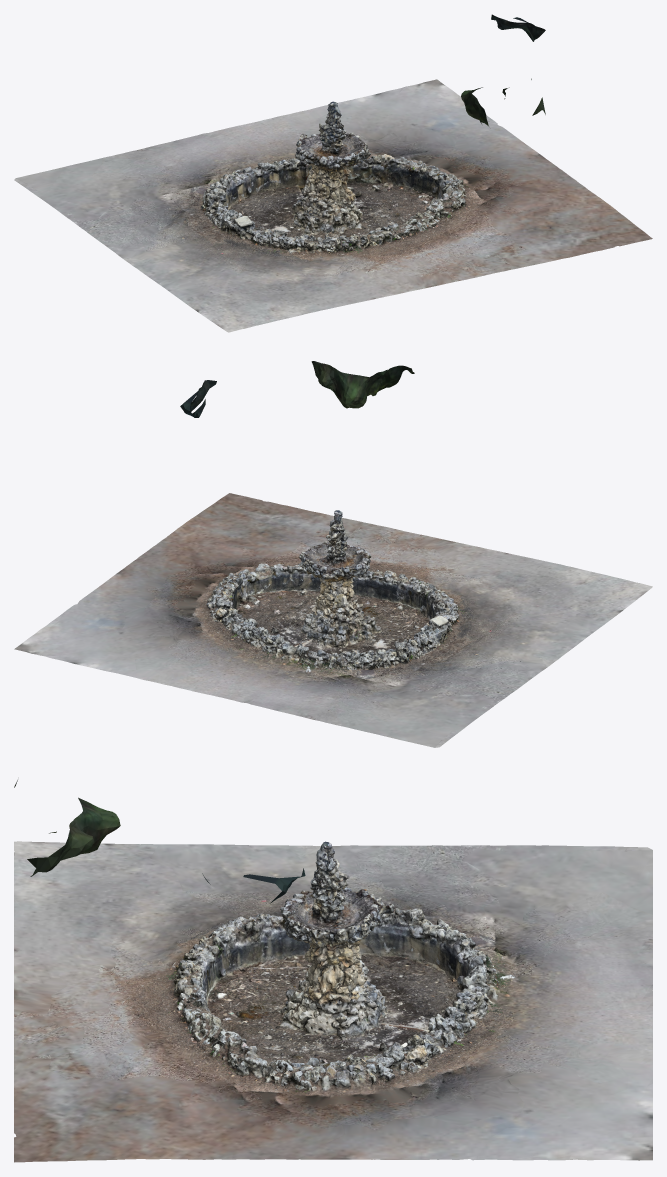
The picture shows the model from 3 angles, top to bottom: view 1: azimuth 30°, elevation 25°; view 2: azimuth 150°, elevation 25°; view 3: azimuth 270°, elevation 25°; orthographic projection. The views are drawn at different scales.
Size of the model in its own units: 4.22 by 1.72 by 3.72.
1 material, 1 textured.
